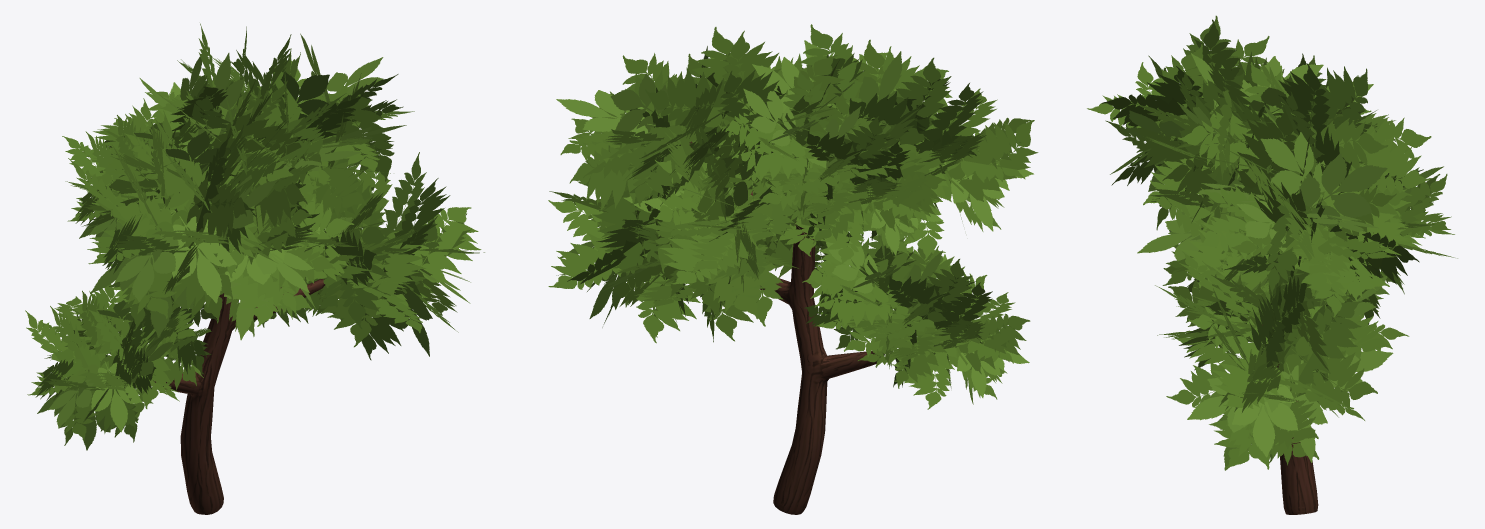
File: SM_Common_Tree_09.glb
The picture shows the model from 3 angles, left to right: view 1: azimuth 30°, elevation 25°; view 2: azimuth 150°, elevation 25°; view 3: azimuth 270°, elevation 25°; orthographic projection.
Parts seen in each view (by area): view 1: SM_Common_Tree_09; view 2: SM_Common_Tree_09; view 3: SM_Common_Tree_09.
Boxes of the visible parts, x1,y1,x2,y2 form: SM_Common_Tree_09: [25, 23, 484, 514]; SM_Common_Tree_09: [548, 24, 1038, 514]; SM_Common_Tree_09: [1087, 15, 1457, 514].
Size of the model in its own units: 8.64 by 8.02 by 5.89.
2 materials, 2 textured.
